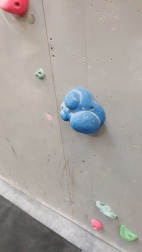Sloper: (57, 88, 107, 137)
